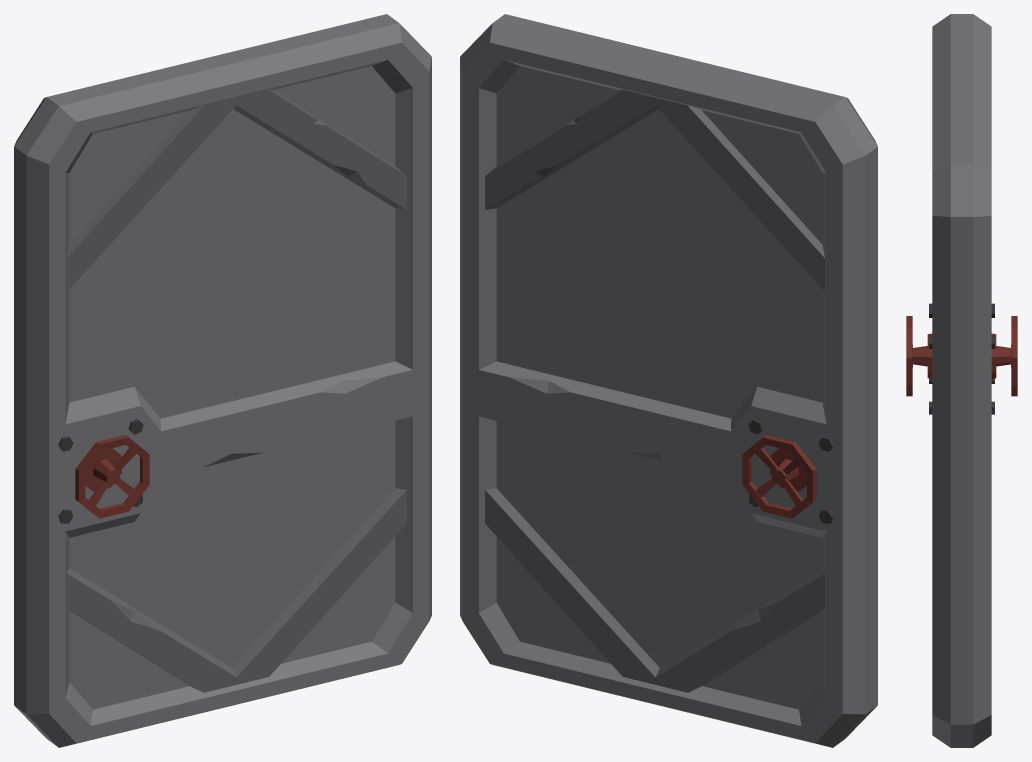
File: SM_Bld_Wall_Doorframe_Door_01.fbx
The picture shows the model from 3 angles, left to right: view 1: azimuth 30°, elevation 25°; view 2: azimuth 150°, elevation 25°; view 3: azimuth 270°, elevation 25°; orthographic projection. The views are drawn at different scales.
Parts seen in each view (by area): view 1: SM_Bld_Wall_Doorframe_Door_01_LOD0; view 2: SM_Bld_Wall_Doorframe_Door_01_LOD0; view 3: SM_Bld_Wall_Doorframe_Door_01_LOD0.
Boxes of the visible parts, x1,y1,x2,y2 form: SM_Bld_Wall_Doorframe_Door_01_LOD0: [14, 14, 431, 747]; SM_Bld_Wall_Doorframe_Door_01_LOD0: [460, 14, 877, 747]; SM_Bld_Wall_Doorframe_Door_01_LOD0: [906, 14, 1017, 747].
Bounding box in the file's own units: 44.34 × 169 × 256.
Materials: 1 (1 with a texture image).
